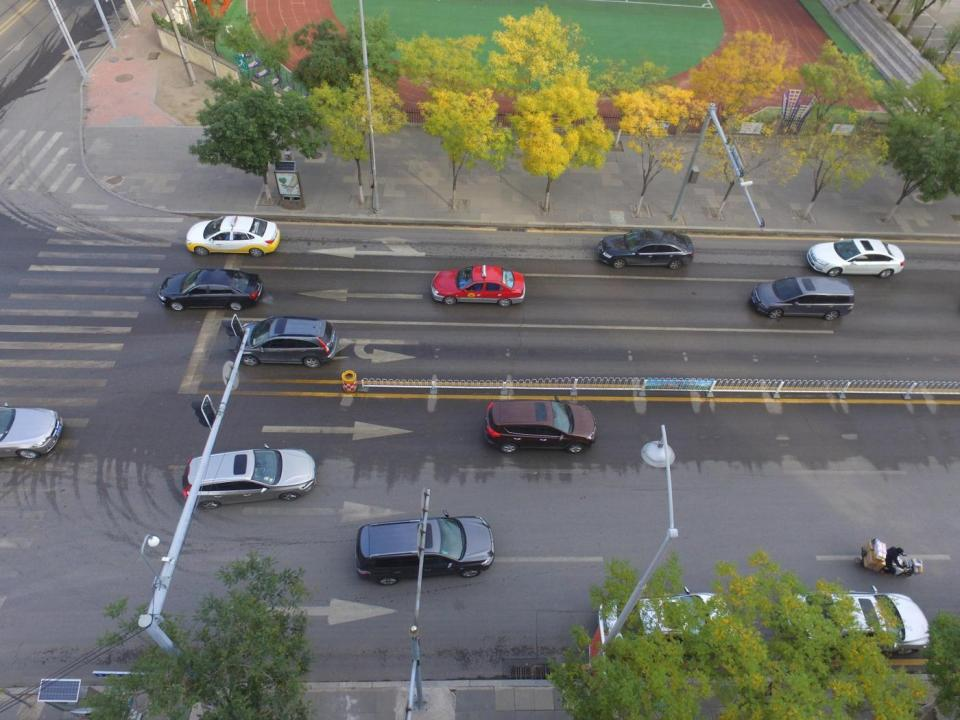car: (601, 591, 741, 665), (354, 511, 494, 584), (785, 590, 928, 657), (182, 448, 316, 509), (484, 399, 596, 456), (232, 318, 336, 366), (807, 236, 907, 280), (431, 264, 526, 310), (752, 277, 853, 320), (596, 229, 694, 271), (159, 272, 264, 310), (184, 218, 280, 256), (0, 402, 63, 458)
